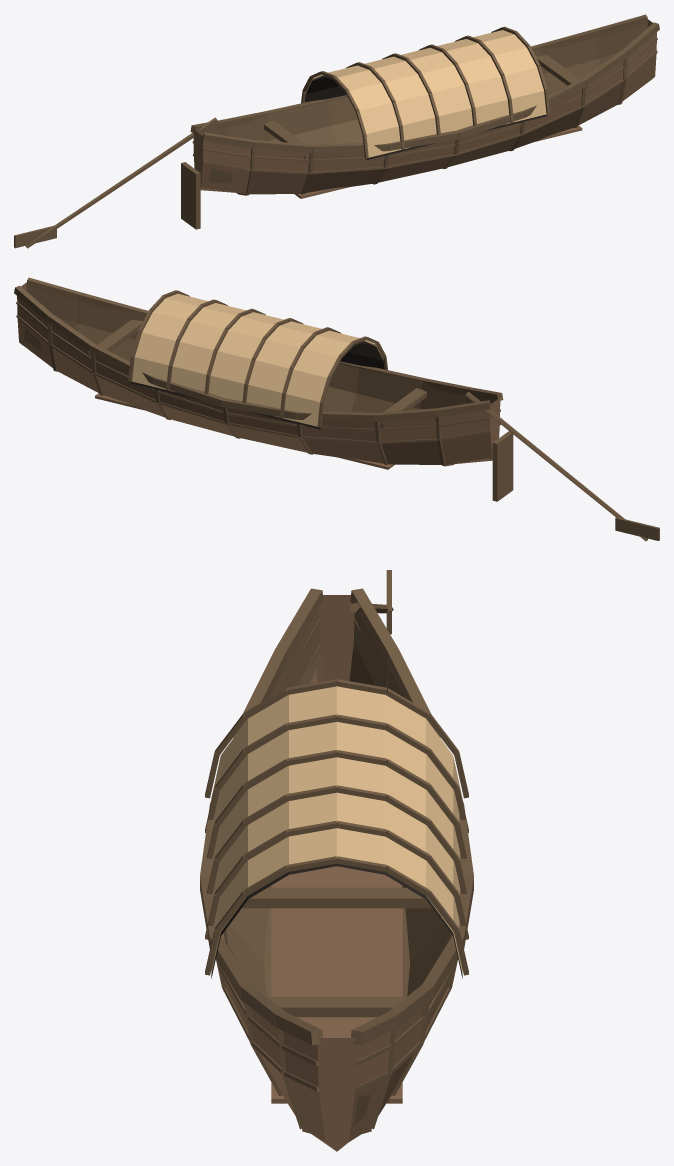
3 views of the same model, one above another, from view 1: azimuth 30°, elevation 25°; view 2: azimuth 150°, elevation 25°; view 3: azimuth 270°, elevation 25° (orthographic). The views are drawn at different scales.
Visible parts, largest first — view 1: K13c; view 2: K13c; view 3: K13c.
Boxes of the visible parts, left/top/right/bottom form: K13c: left=14, top=14, right=659, bottom=248; K13c: left=14, top=277, right=659, bottom=541; K13c: left=200, top=570, right=473, bottom=1151.
Bounding box in the file's own units: 16.55 × 2.84 × 3.14.
